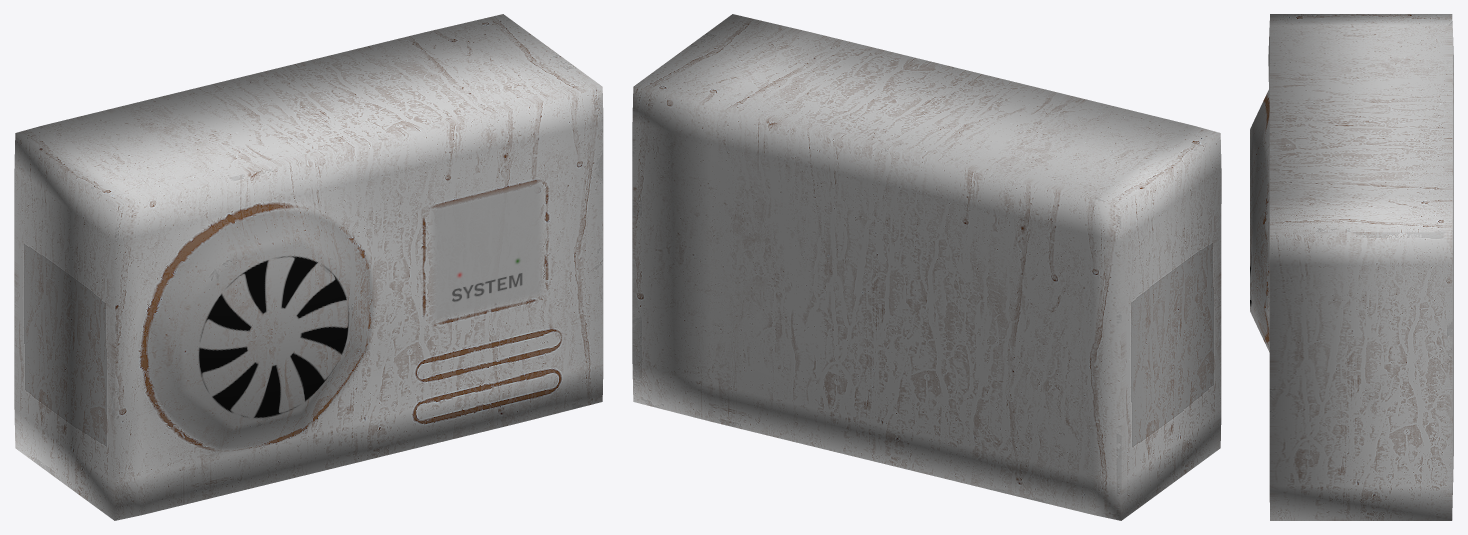
3 views of the same model, side by side, from view 1: azimuth 30°, elevation 25°; view 2: azimuth 150°, elevation 25°; view 3: azimuth 270°, elevation 25° (orthographic). The views are drawn at different scales.
Visible parts, largest first — view 1: low_vent.002; view 2: low_vent.002; view 3: low_vent.002.
Part boxes in pixels (x1=…): low_vent.002: x1=14, y1=14, x2=603, y2=520; low_vent.002: x1=632, y1=14, x2=1221, y2=520; low_vent.002: x1=1250, y1=14, x2=1453, y2=520.
Size of the model in its own units: 3.3 by 2.04 by 1.3.
Materials: 1 (1 with a texture image).
